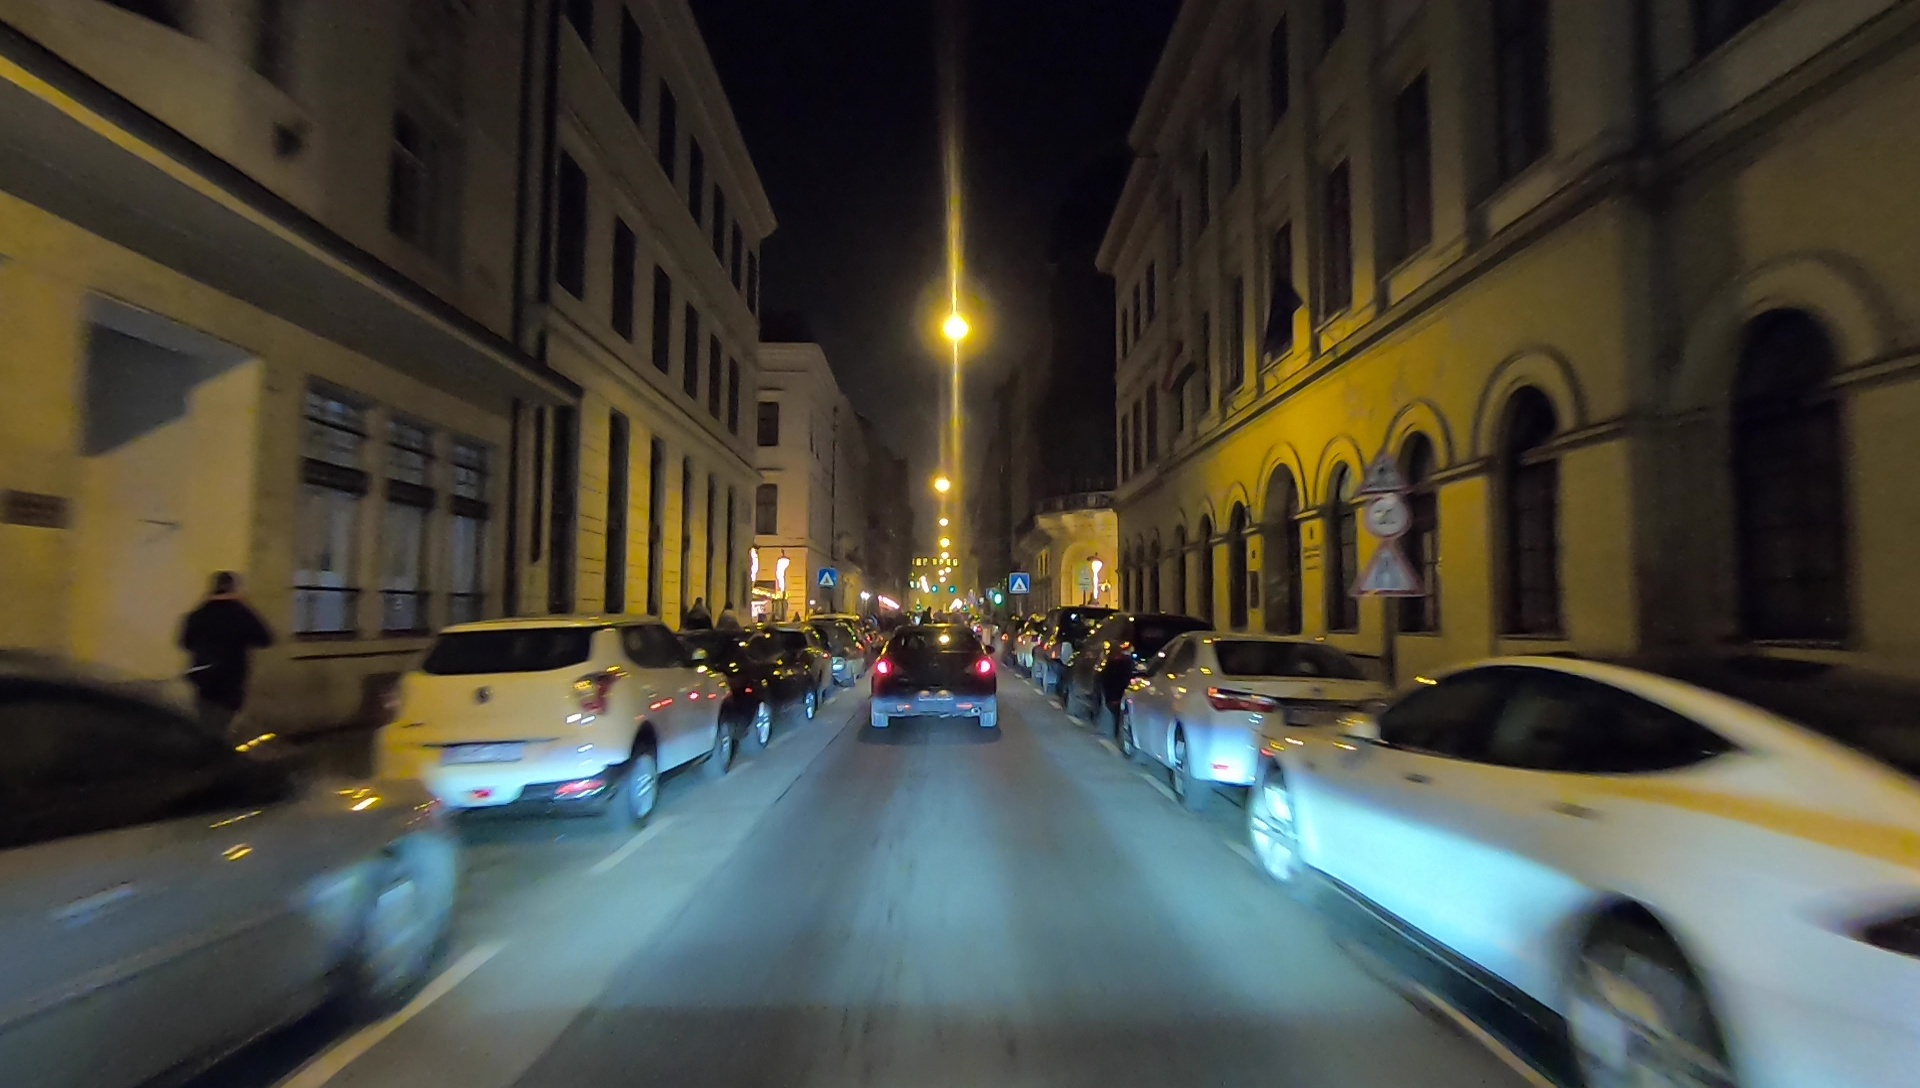person: (178, 569, 264, 765)
